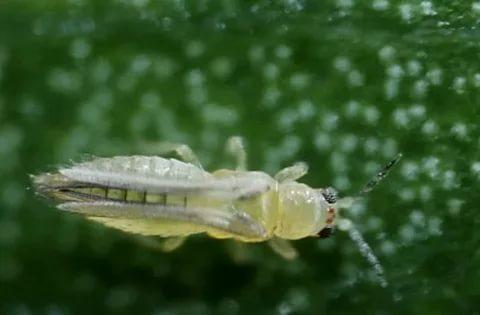tiny_pests: (0, 124, 432, 309)
